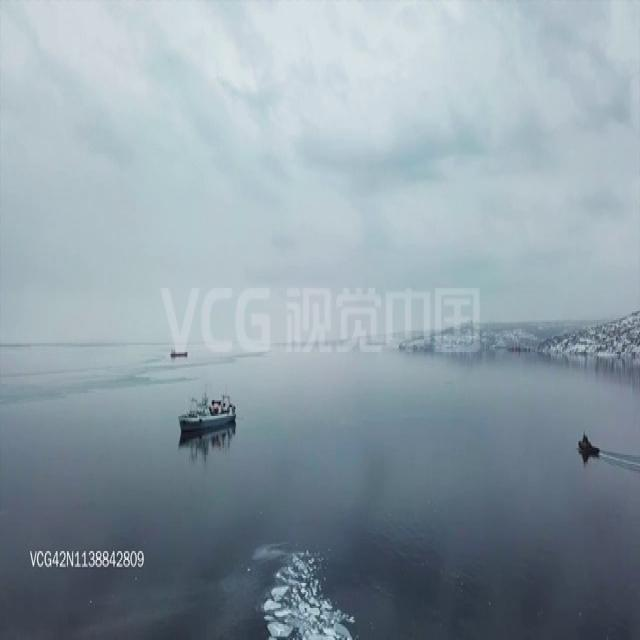fishing boat: (174, 385, 236, 432), (576, 430, 600, 460), (170, 343, 190, 362)
